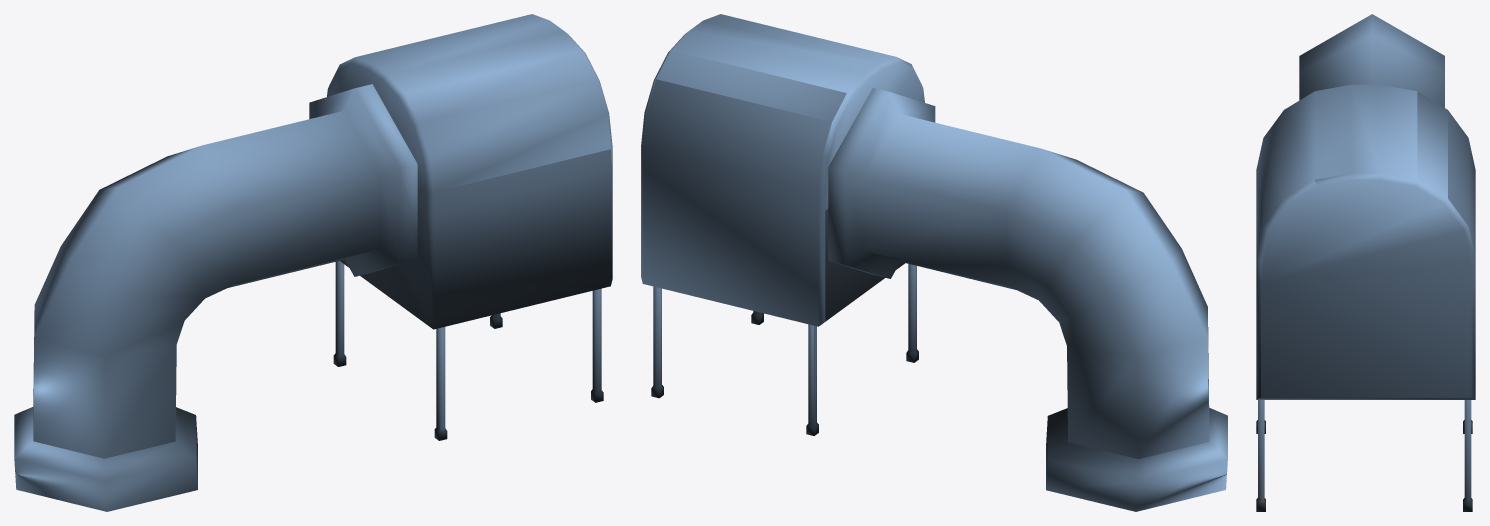
Rendered from rooftop_fan1.fbx.
3 renders of one model, left to right at view 1: azimuth 30°, elevation 25°; view 2: azimuth 150°, elevation 25°; view 3: azimuth 270°, elevation 25°, orthographic. The views are drawn at different scales.
Parts seen in each view (by area): view 1: Cylinder.001; view 2: Cylinder.001; view 3: Cylinder.001.
Boxes of the visible parts, <box> form: Cylinder.001: <box>14,14,612,511</box>; Cylinder.001: <box>641,14,1227,511</box>; Cylinder.001: <box>1256,14,1475,511</box>.
Size of the model in its own units: 586 by 345 by 200.
